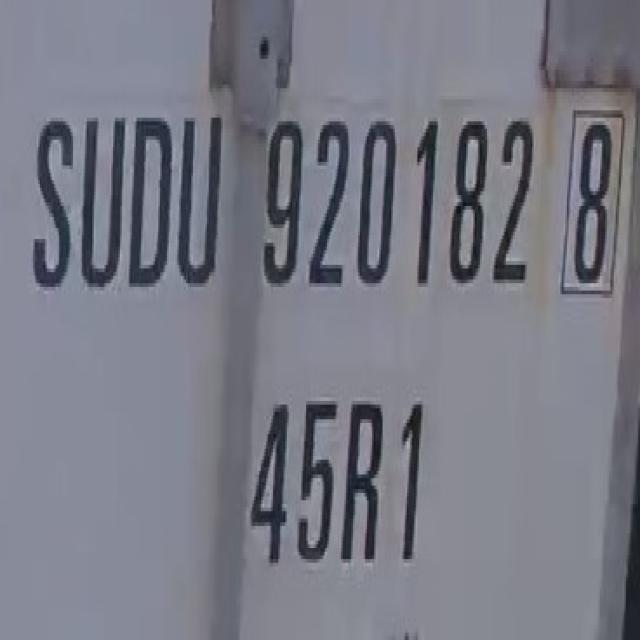dv: (559, 106, 623, 316)
owner: (25, 87, 226, 315)
serial: (262, 95, 538, 310)
size: (252, 376, 437, 585)
